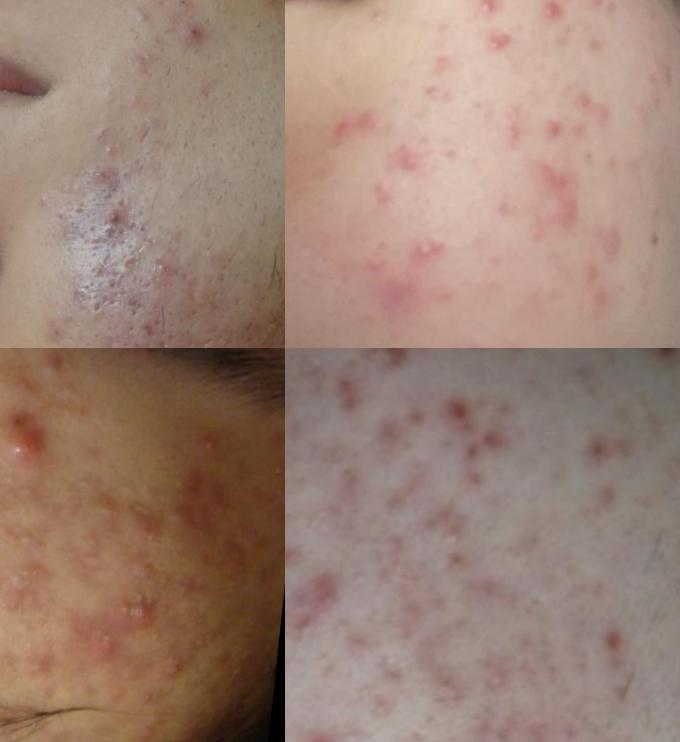acne_scars: (80, 244, 119, 285), (176, 267, 207, 313), (136, 314, 160, 343)
blackhead: (85, 114, 118, 147), (166, 1, 196, 15)
papular: (386, 221, 465, 269), (540, 157, 590, 232), (322, 101, 383, 151), (370, 275, 426, 322), (565, 84, 619, 132), (637, 60, 680, 120), (416, 50, 460, 108), (123, 499, 172, 546), (388, 140, 434, 181), (359, 177, 403, 217), (439, 327, 514, 349), (484, 195, 527, 230), (494, 112, 528, 148), (530, 1, 565, 35), (180, 22, 215, 54), (537, 116, 570, 148), (585, 1, 621, 22)
purulent: (1, 408, 61, 477), (471, 29, 514, 57), (473, 1, 506, 24)
sebo-crystan-conglo: (67, 615, 131, 660), (113, 592, 169, 632), (90, 201, 136, 244)
whitehead: (449, 632, 524, 706), (421, 501, 483, 561), (180, 401, 235, 451), (1, 559, 52, 610), (141, 638, 193, 688), (286, 605, 332, 655), (7, 646, 61, 680), (8, 517, 46, 564), (294, 710, 338, 742), (47, 370, 86, 400), (61, 472, 96, 502), (165, 499, 192, 527), (88, 500, 118, 523), (430, 735, 495, 742)
